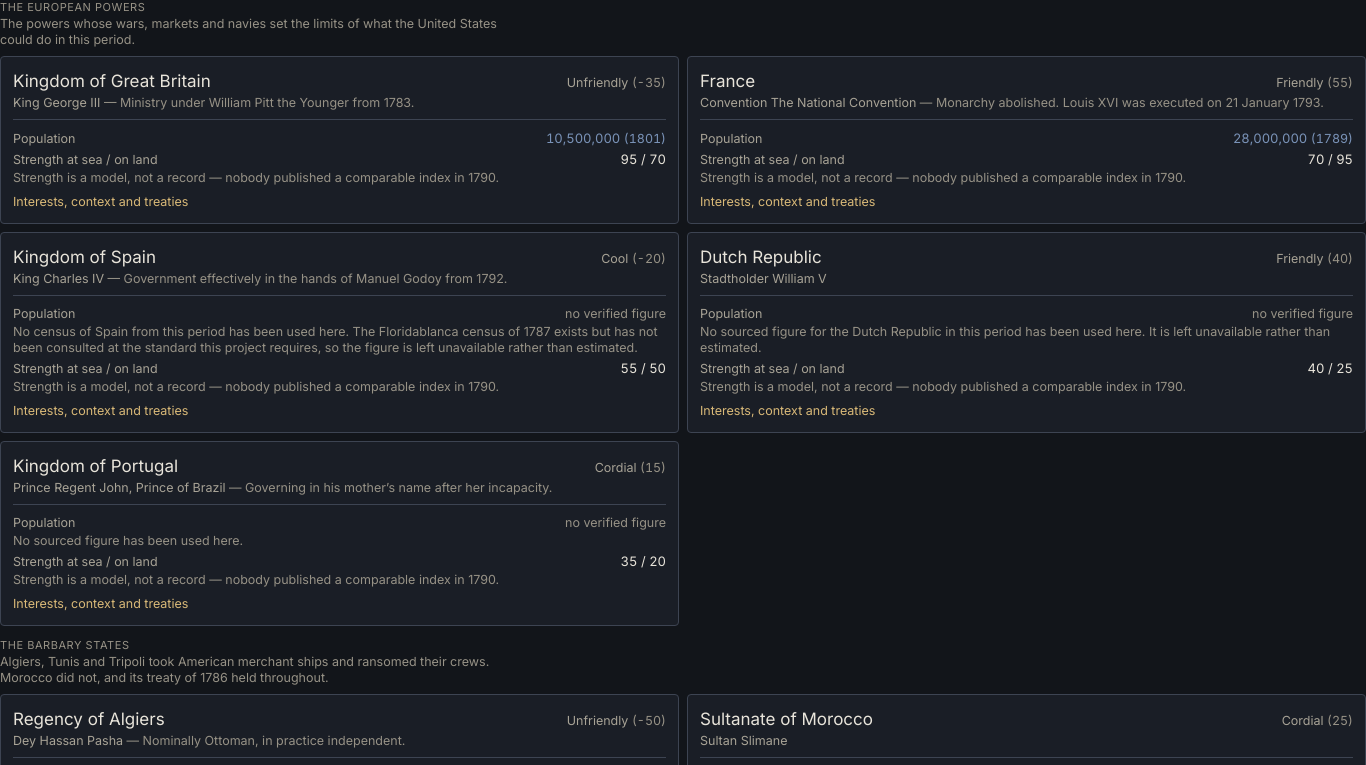
Test: sending a minister › is disabled when there is no capital for it
Click the button "Interests, context and treaties" below "George III". click: (101,202)
box: [13,194,188,210]
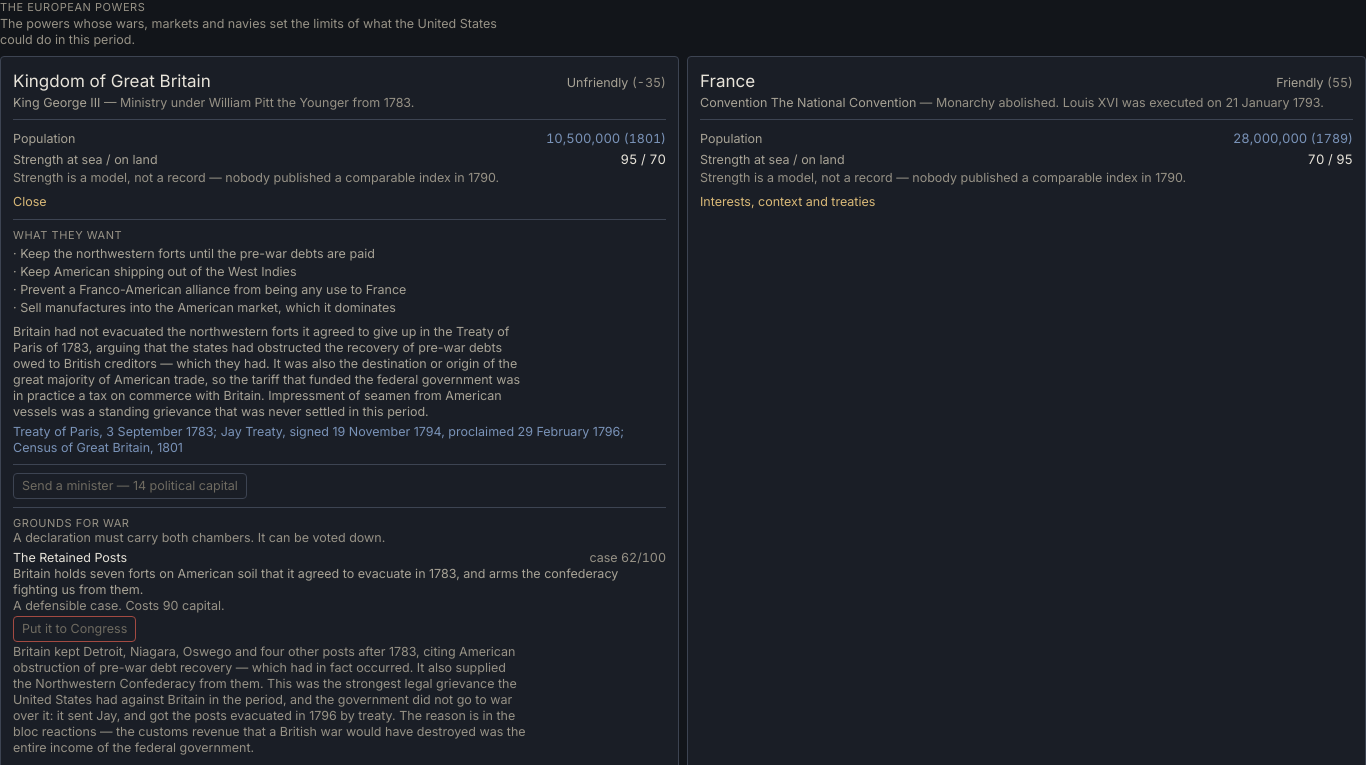
Expected: the button "Send a minister — 14 political capital" is disabled, [13,473,247,499]
